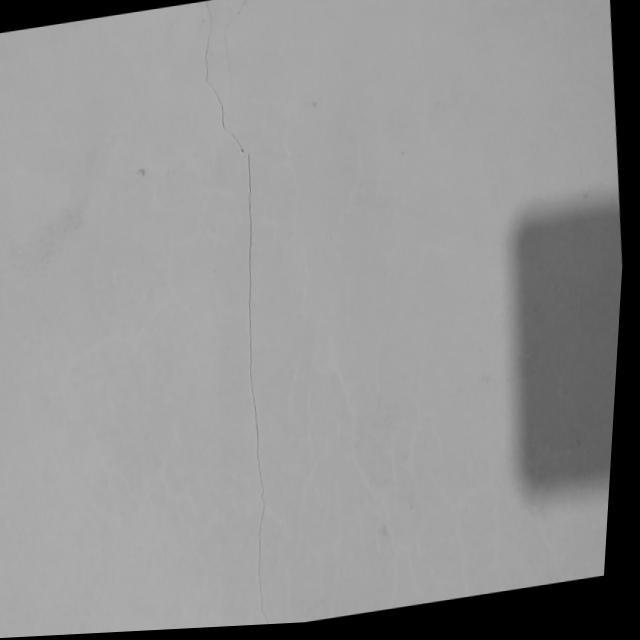Crack: (201, 10, 269, 616)
